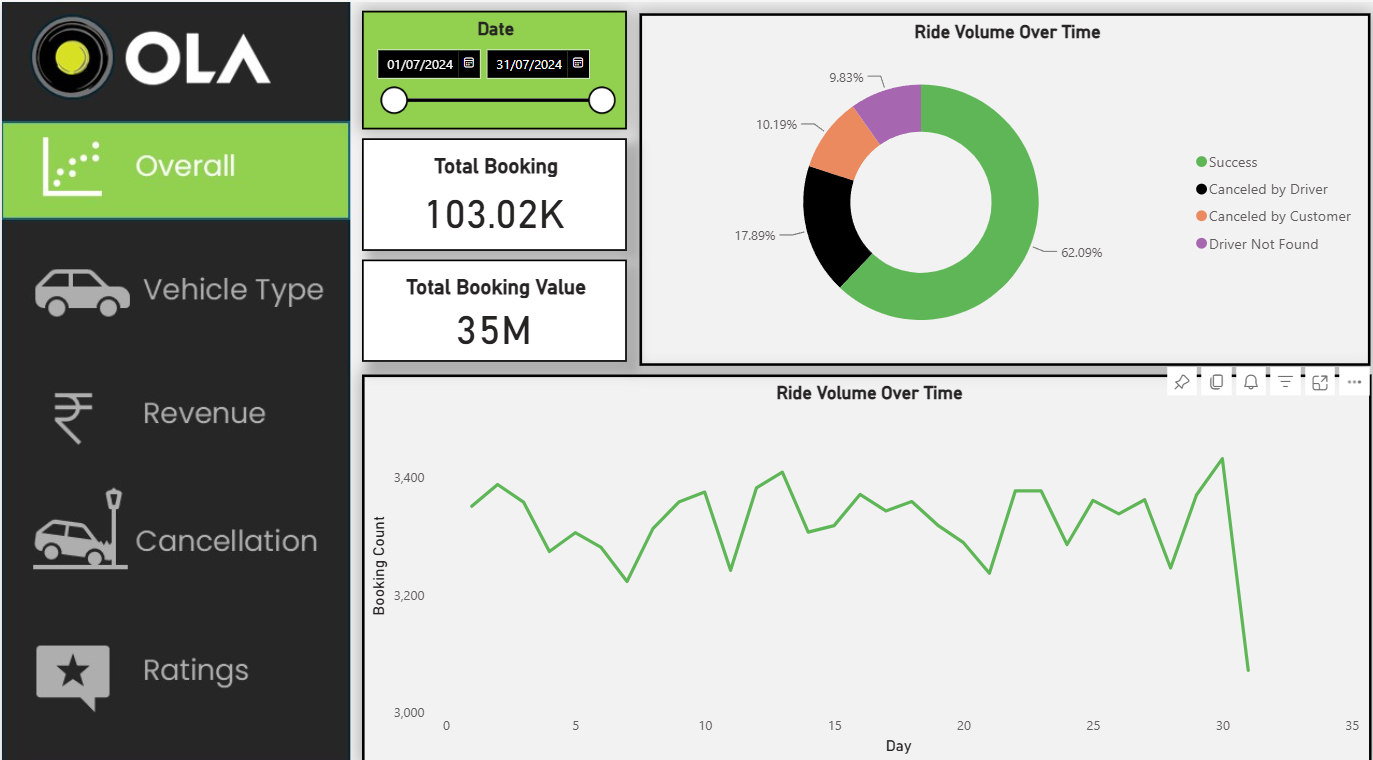

The dashboard page shown, as its layout file describes it:
{"tool":"powerbi","page":{"name":"Overall","canvas":[1280,720],"ordinal":0},"visuals":[{"type":"actionButton","box":[0,221.5,323.9,92.4],"z":0},{"type":"actionButton","box":[0,338.4,323.9,92.4],"z":1000},{"type":"actionButton","box":[0,447.5,323.9,92.4],"z":2000},{"type":"actionButton","box":[1.1,583.3,323.9,92.4],"z":3000},{"type":"lineChart","title":"Ride Volume Over Time","fields":{"Category":["July.Date.Variation.Date Hierarchy.Day"],"Y":["CountNonNull(July.Booking_ID)"]},"box":[334.9,346.5,939.5,361.6],"z":4000},{"type":"donutChart","title":"Ride Volume Over Time","fields":{"Y":["CountNonNull(July.Booking_ID)"],"Category":["July.Booking_Status"]},"box":[593,10.5,680.2,327.9],"z":5000},{"type":"slicer","title":"Date","fields":{"Values":["July.Date"]},"box":[335.1,7.8,246,110.2],"z":6000},{"type":"card","title":"Total Booking","fields":{"Values":["CountNonNull(July.Booking_ID)"]},"box":[334.9,126.7,246.5,104.7],"z":7000},{"type":"card","title":"Total Booking Value","fields":{"Values":["Sum(July.Booking_Value)"]},"box":[334.9,239.5,246.5,95.3],"z":8000}]}

Visuals, with their boxes in screenshot pixels (x1, y1, x2, y2), scaled from the page's 1280x720 canvas onto the 1373x760 screenshot:
actionButton: 0,234,347,331
actionButton: 0,357,347,455
actionButton: 0,472,347,570
actionButton: 1,616,349,713
"Ride Volume Over Time" lineChart: 359,366,1367,747
"Ride Volume Over Time" donutChart: 636,11,1366,357
"Date" slicer: 359,8,623,125
"Total Booking" card: 359,134,624,244
"Total Booking Value" card: 359,253,624,353
